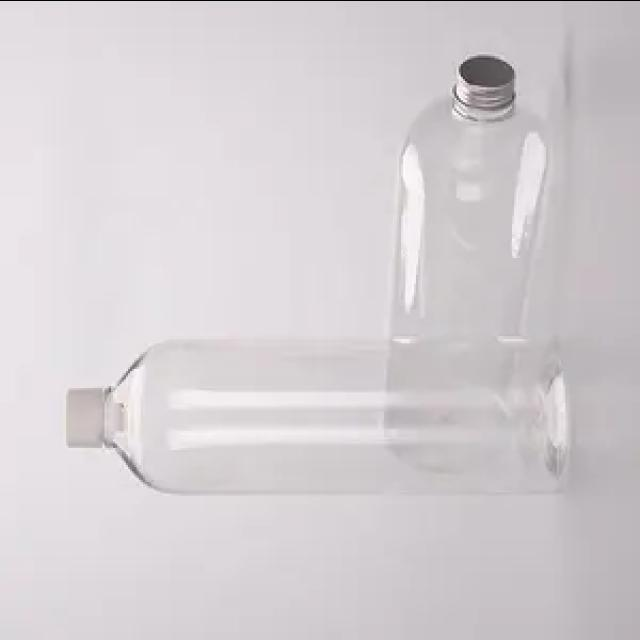bottle: (66, 337, 567, 493), (394, 56, 547, 333)
